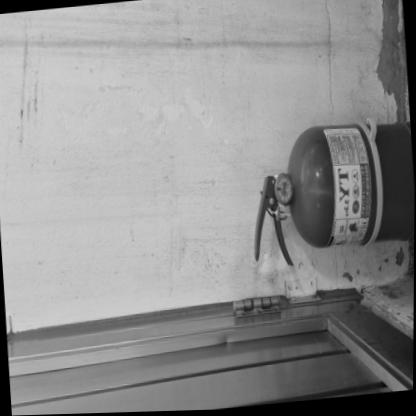FE: (244, 118, 415, 265)
